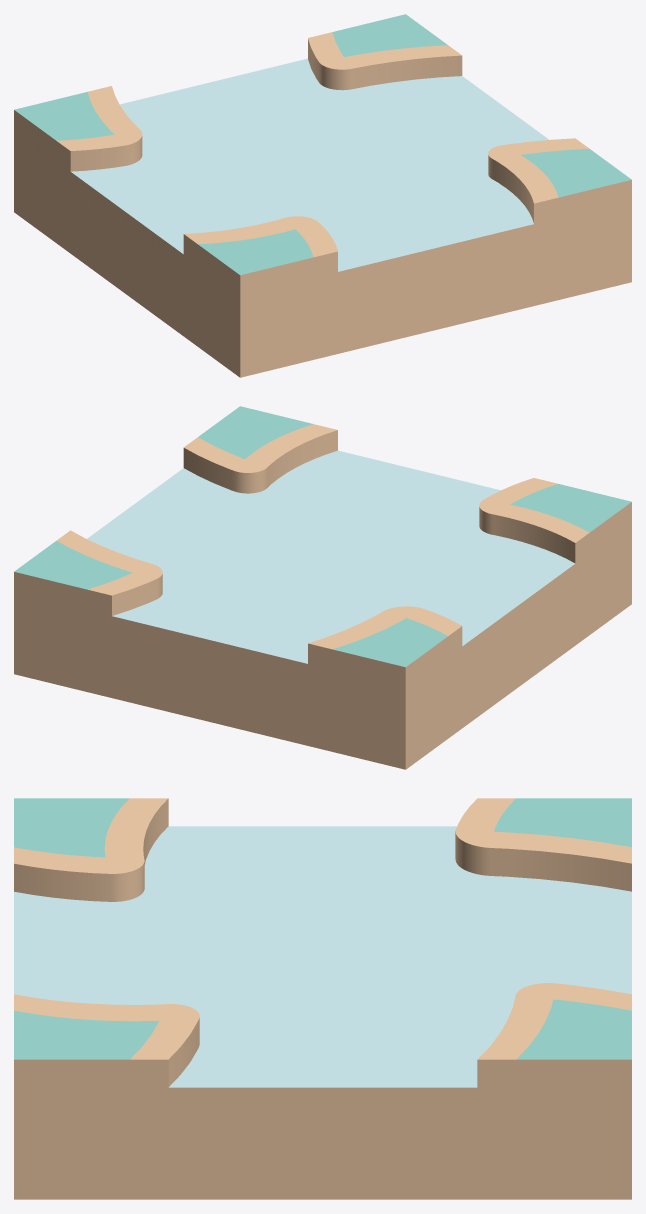
Rendered from ground_dirtRiverCrossing.glb.
3 renders of one model, top to bottom at view 1: azimuth 30°, elevation 25°; view 2: azimuth 150°, elevation 25°; view 3: azimuth 270°, elevation 25°, orthographic. The views are drawn at different scales.
Visible parts, largest first — view 1: ground_dirtRiverCrossing; view 2: ground_dirtRiverCrossing; view 3: ground_dirtRiverCrossing.
Boxes of the visible parts, left/top/right/bottom form: ground_dirtRiverCrossing: left=14, top=14, right=631, bottom=377; ground_dirtRiverCrossing: left=14, top=406, right=631, bottom=769; ground_dirtRiverCrossing: left=14, top=798, right=631, bottom=1199.
Bounding box in the file's own units: 10 × 2.5 × 10.
